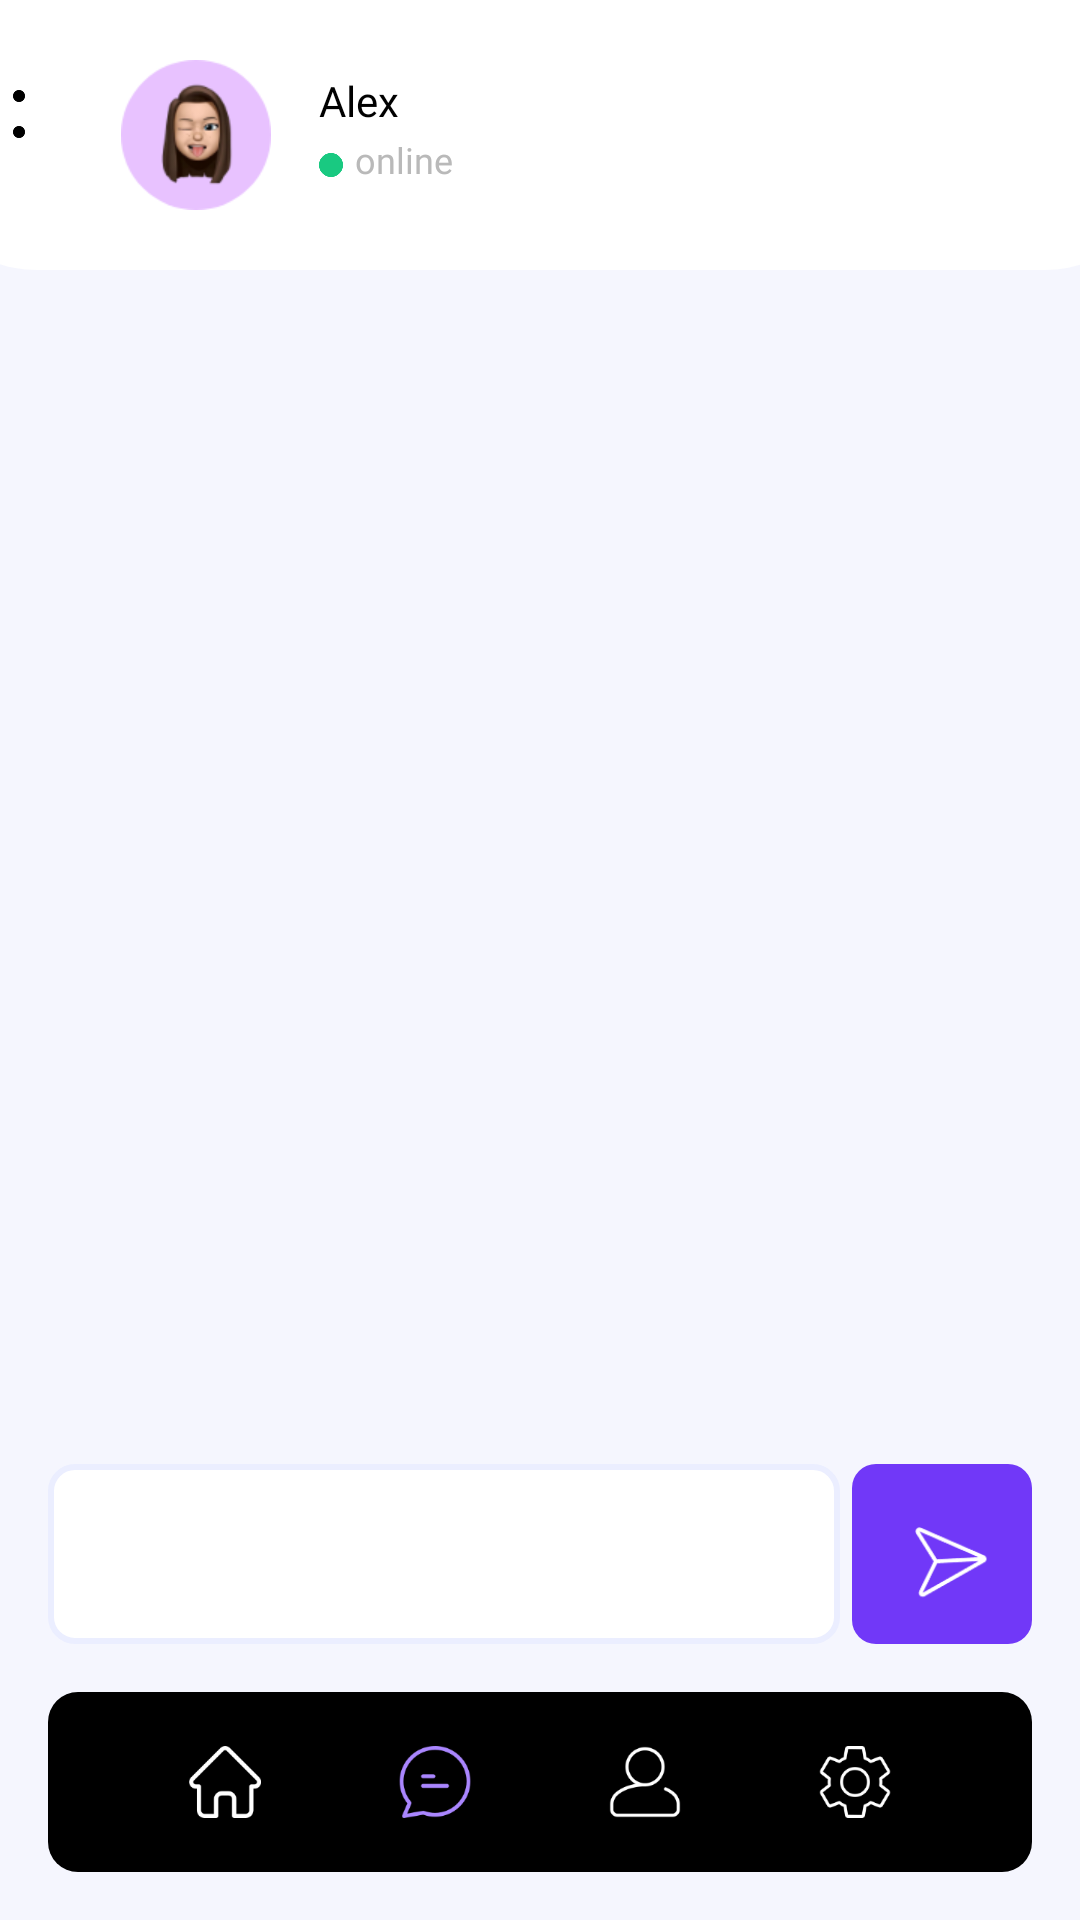

Locate icon controls on the screen. Image size 1080x1920, boxes as (x1, y1, x2, y2).
chatp: (399, 1746, 471, 1818)
greendot: (319, 153, 343, 177)
homew: (189, 1746, 261, 1818)
profilew: (610, 1747, 680, 1817)
send: (852, 1464, 1032, 1644)
settingsw: (819, 1746, 891, 1818)
